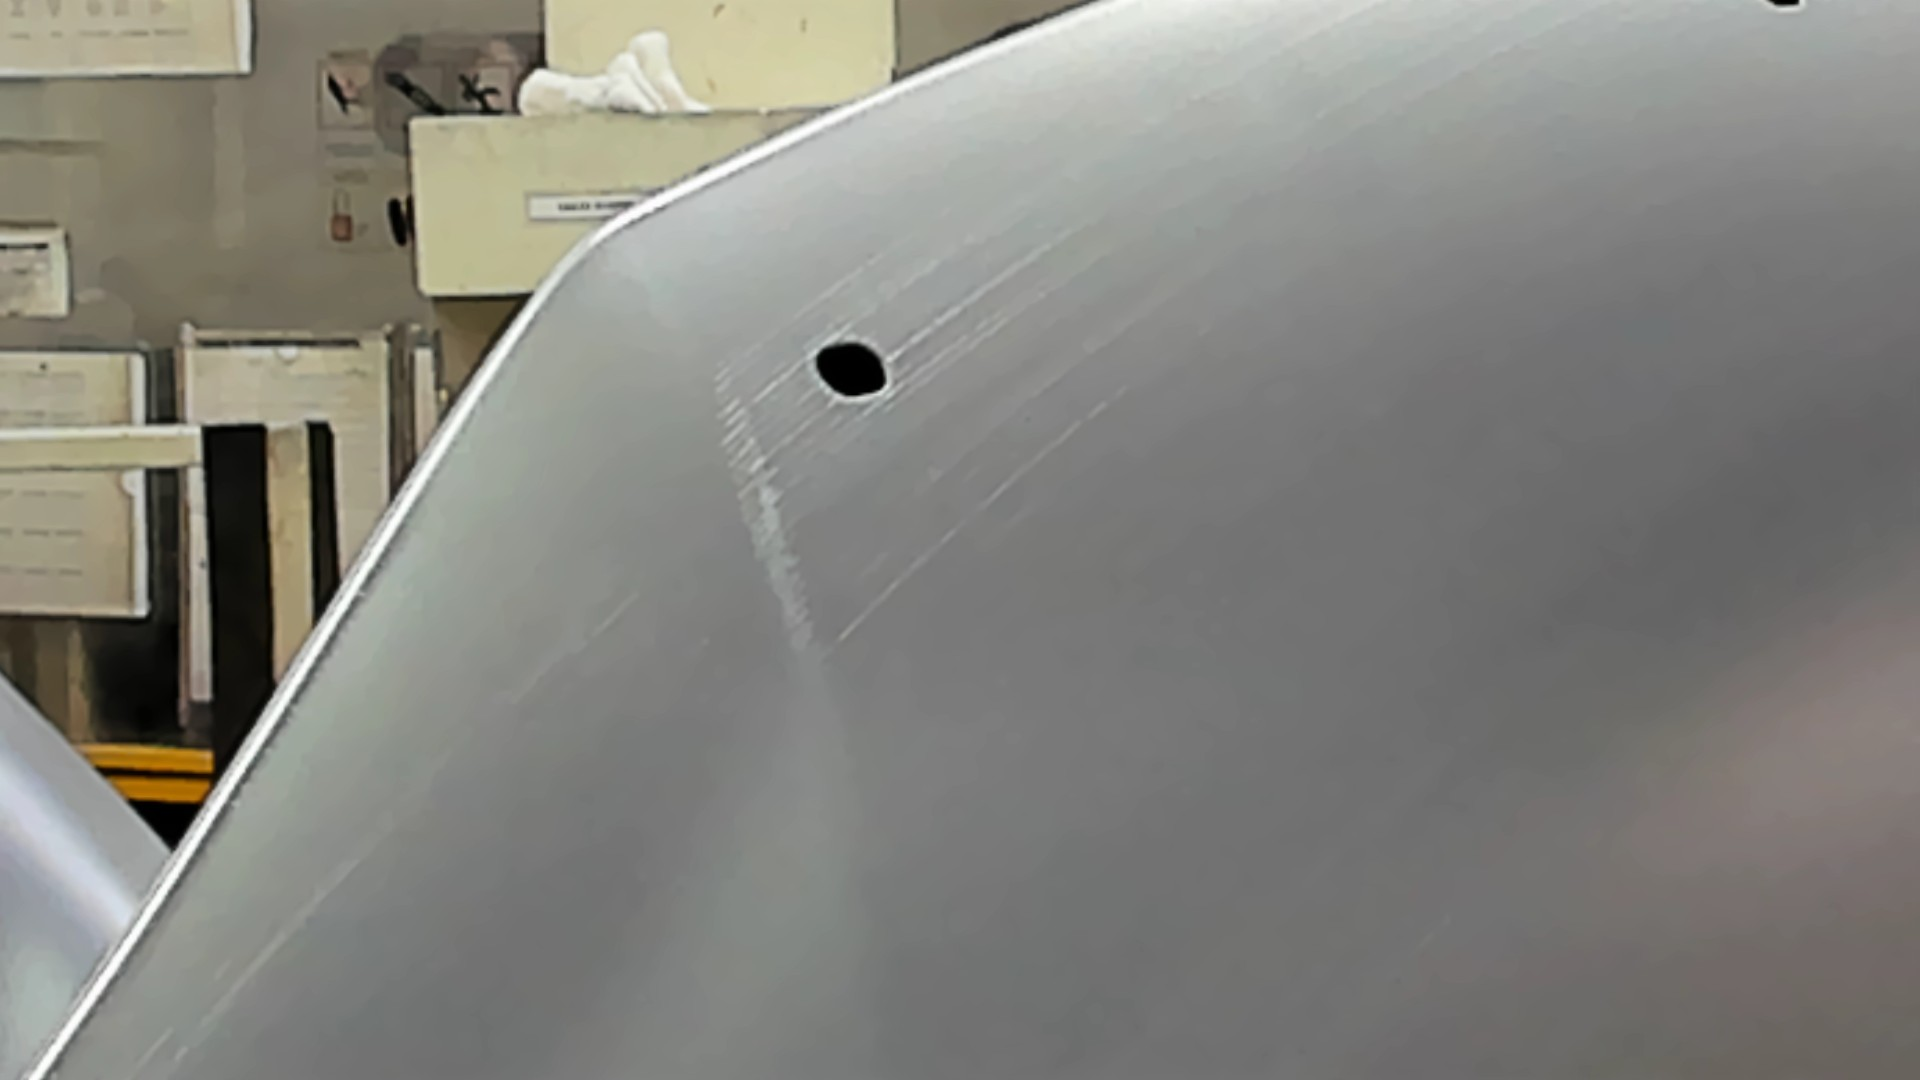amorfo: (811, 336, 895, 406), (1760, 1, 1811, 15)
